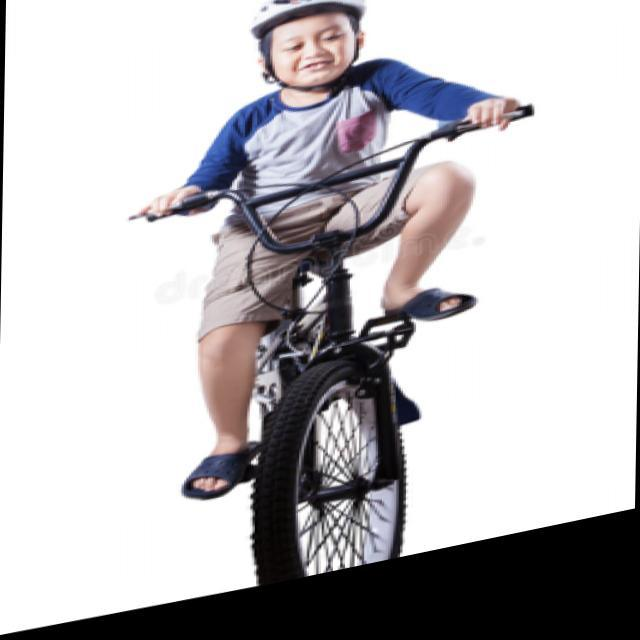Helmet: (248, 0, 368, 94)
